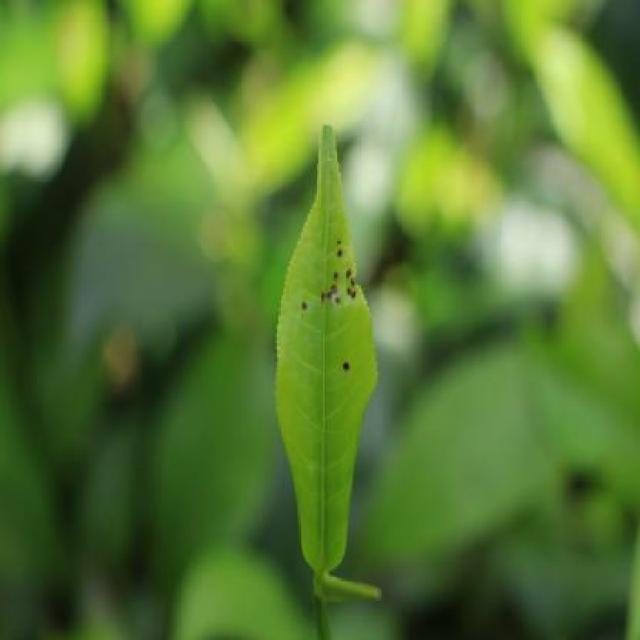Tea Mosquito bug infested leaf: (270, 103, 392, 557)
